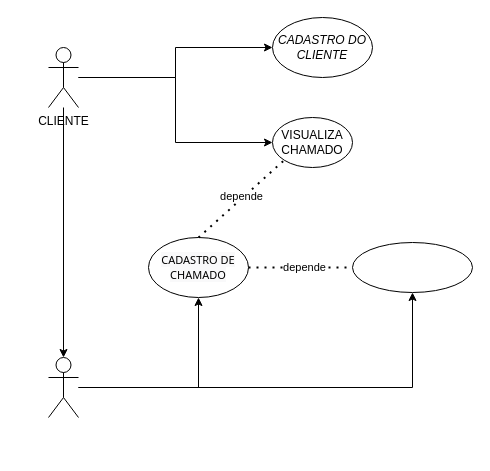
The diagram is 490 pixels wide and 471 high, and some of its shapes have lost their labels. The shapes that lost their labels are listed below. From the top down, each one's box as (x1, y1, x2, y2) in pixels, then its label:
(352, 242, 472, 292): GERENCIAMENTO DE CHAMADO
(48, 356, 78, 418): COLABORADOR
